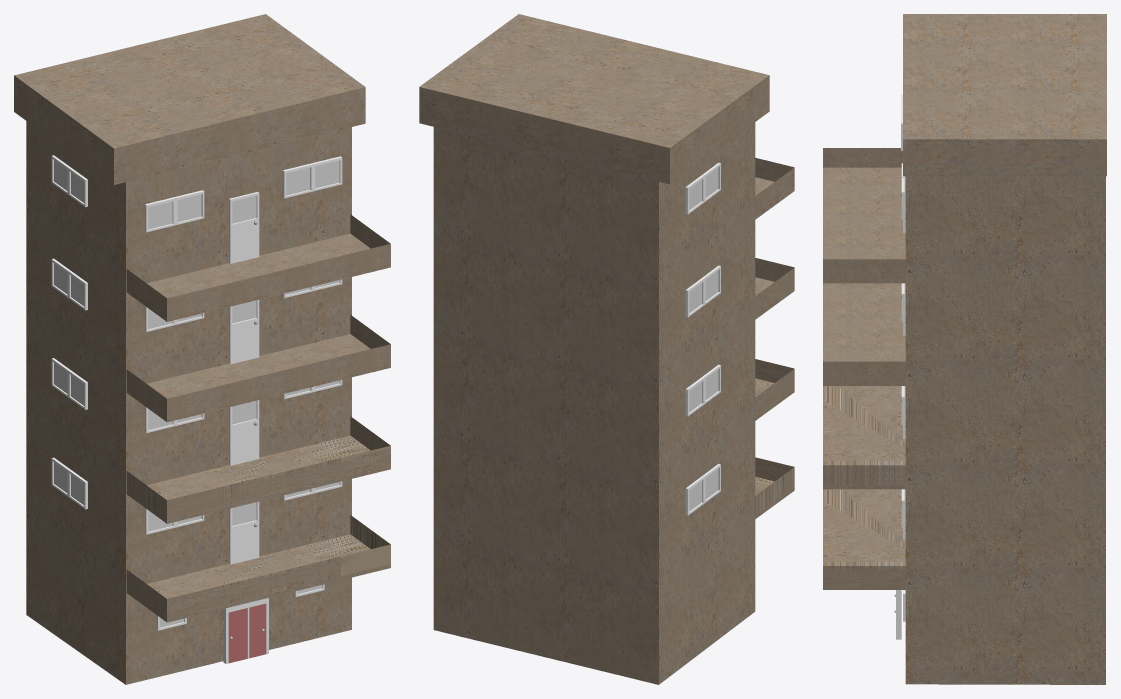
The model's file is Building_5_VAL.fbx.
3 renders of one model, left to right at view 1: azimuth 30°, elevation 25°; view 2: azimuth 150°, elevation 25°; view 3: azimuth 270°, elevation 25°, orthographic. The views are drawn at different scales.
Visible parts, largest first — view 1: pCube2, pCube9, level, level2, level3, level1, window10 (×4), window (×6), doors, window1 (×2); view 2: pCube2, pCube9, window1 (×4), level2, level1, level3, level; view 3: pCube2, pCube9, level, level2, level1, level3.
Part boxes in pixels (x1,y1,x2,y2): pCube2: [26, 121, 351, 684]; pCube9: [14, 14, 365, 184]; level: [126, 214, 390, 321]; level2: [126, 416, 390, 523]; level3: [126, 515, 390, 622]; level1: [126, 315, 390, 422]; window10 (×4): [229, 192, 259, 564]; window (×6): [68, 156, 342, 509]; doors: [223, 598, 268, 663]; window1 (×2): [145, 163, 313, 232]; pCube2: [433, 122, 755, 684]; pCube9: [419, 14, 769, 184]; window1 (×4): [685, 175, 704, 515]; level2: [755, 359, 794, 420]; level1: [755, 258, 794, 319]; level3: [755, 457, 794, 518]; level: [755, 158, 794, 219]; pCube2: [905, 176, 1105, 684]; pCube9: [903, 14, 1106, 176]; level: [823, 148, 905, 283]; level2: [823, 386, 905, 489]; level1: [823, 283, 905, 385]; level3: [823, 489, 905, 589].
Bounding box in the file's own units: 8.69 × 17.88 × 8.32.
